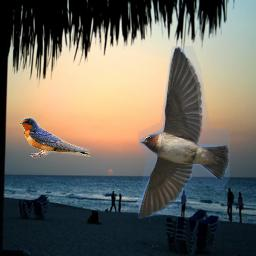Swallow: (138, 46, 230, 219), (18, 116, 90, 159)
